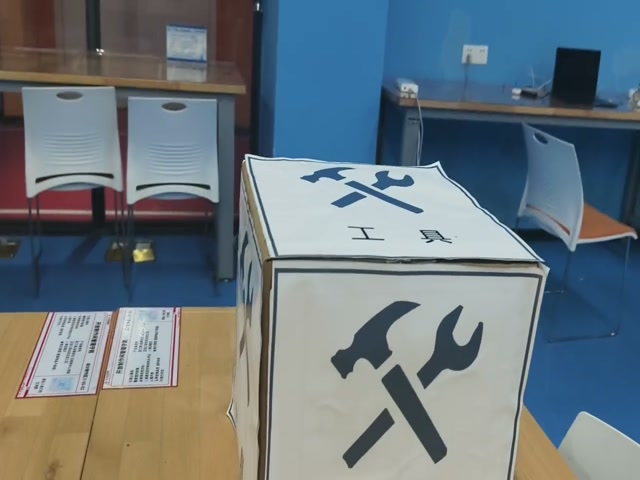Cube_tool: (243, 156, 546, 286)
